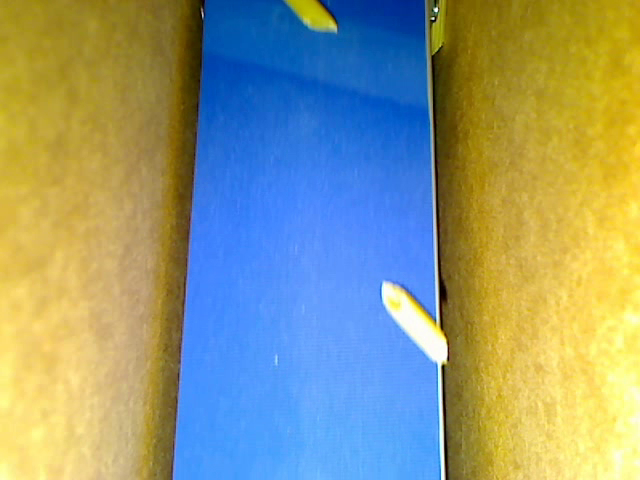penne: (380, 278, 452, 363), (278, 1, 339, 41), (424, 1, 444, 62)
